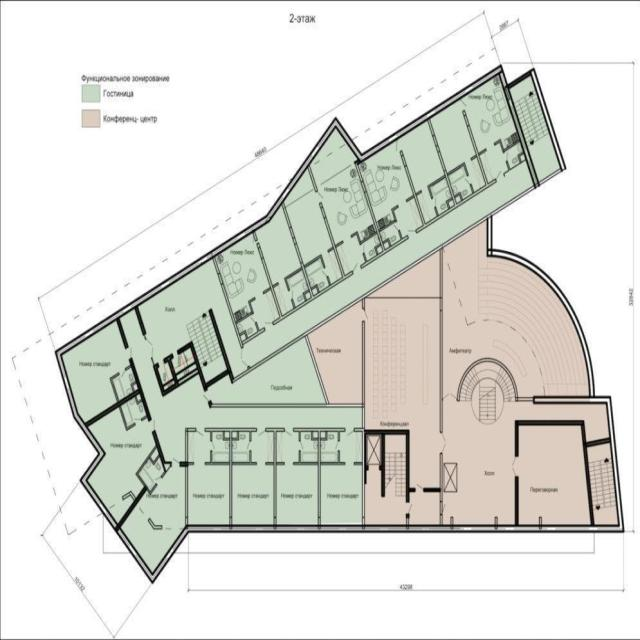Bathrooms: (139, 450, 163, 489), (306, 259, 328, 294), (449, 167, 471, 202), (432, 179, 453, 214), (289, 271, 310, 305), (122, 396, 145, 426), (114, 369, 136, 399), (238, 316, 257, 342), (321, 433, 338, 461), (363, 235, 382, 260), (381, 224, 400, 249), (301, 433, 317, 461), (213, 433, 229, 461), (233, 433, 249, 461), (507, 144, 524, 167)
Corridors: (244, 162, 533, 367), (121, 311, 362, 460), (443, 402, 608, 525), (139, 260, 247, 377), (208, 338, 325, 402), (308, 301, 362, 402), (369, 251, 439, 297), (365, 471, 405, 524), (395, 199, 423, 237), (337, 237, 364, 274), (252, 292, 279, 329), (481, 144, 507, 182), (411, 494, 439, 524), (341, 433, 362, 461), (323, 251, 341, 283), (418, 191, 436, 223), (467, 159, 485, 191), (278, 433, 298, 461), (252, 433, 272, 461), (189, 433, 209, 461), (275, 282, 292, 314), (172, 349, 194, 372), (159, 364, 172, 384)
Doors: (144, 336, 156, 366), (240, 346, 250, 368), (442, 391, 457, 402), (511, 457, 519, 476), (440, 432, 447, 453), (458, 98, 468, 112), (202, 391, 211, 404), (316, 191, 325, 204), (496, 168, 504, 182), (405, 502, 414, 514), (345, 427, 354, 439), (352, 262, 361, 274), (125, 344, 132, 359), (172, 456, 180, 468), (362, 308, 369, 321), (264, 321, 274, 330), (154, 475, 163, 485), (149, 417, 155, 432), (407, 228, 416, 238), (320, 267, 328, 278), (196, 428, 204, 439), (440, 501, 446, 515), (119, 368, 126, 380), (255, 291, 264, 300), (464, 175, 472, 185), (257, 428, 265, 438), (396, 139, 402, 152), (416, 482, 423, 493), (250, 312, 257, 323), (393, 220, 400, 231), (285, 428, 293, 437), (134, 416, 142, 425), (398, 199, 406, 208), (210, 441, 217, 451), (360, 243, 366, 254), (343, 235, 352, 242), (465, 158, 472, 167), (288, 288, 293, 300), (486, 143, 494, 150), (158, 359, 165, 367), (432, 196, 437, 207), (334, 442, 340, 451), (246, 441, 252, 450), (195, 461, 204, 467), (369, 466, 379, 471), (504, 149, 508, 161), (278, 277, 284, 285), (257, 462, 265, 468), (299, 442, 304, 451), (322, 250, 328, 257), (173, 350, 178, 358), (346, 461, 353, 466), (285, 461, 292, 466), (422, 186, 427, 192)
LBwalls: (54, 65, 625, 586), (486, 215, 596, 396), (499, 71, 540, 191)
Offices: (443, 222, 589, 398), (365, 300, 440, 487), (311, 130, 376, 244), (89, 409, 154, 522), (519, 426, 590, 524), (63, 322, 129, 422), (122, 467, 185, 571), (359, 142, 413, 228), (216, 235, 269, 320), (285, 170, 332, 265), (461, 75, 518, 152), (256, 208, 300, 285), (431, 101, 475, 171), (400, 121, 444, 191), (321, 466, 362, 523), (277, 466, 318, 523), (233, 466, 274, 523), (189, 467, 230, 524)
Stairs: (510, 77, 560, 182), (461, 363, 515, 425), (186, 310, 226, 383), (588, 444, 618, 525), (386, 436, 405, 497)
Walls: (177, 186, 534, 392), (253, 202, 353, 325), (400, 110, 496, 234), (515, 419, 610, 525), (351, 160, 409, 270), (508, 67, 567, 173), (118, 429, 172, 527), (204, 426, 258, 523), (293, 427, 346, 524), (85, 358, 152, 431), (213, 258, 266, 349), (364, 429, 416, 503), (457, 356, 533, 402), (354, 321, 365, 525), (153, 353, 199, 398), (265, 427, 286, 524), (305, 336, 329, 404), (180, 427, 196, 524), (423, 453, 443, 501), (209, 403, 362, 408), (440, 248, 443, 432), (494, 138, 520, 154), (503, 159, 526, 177), (540, 168, 562, 186), (117, 319, 129, 350), (135, 307, 147, 338), (308, 167, 318, 192), (515, 476, 519, 525), (148, 517, 162, 529), (122, 490, 136, 501), (366, 297, 439, 299), (406, 512, 410, 529), (539, 517, 542, 530), (450, 516, 453, 529), (495, 517, 498, 529), (362, 298, 365, 309), (440, 514, 443, 524)
